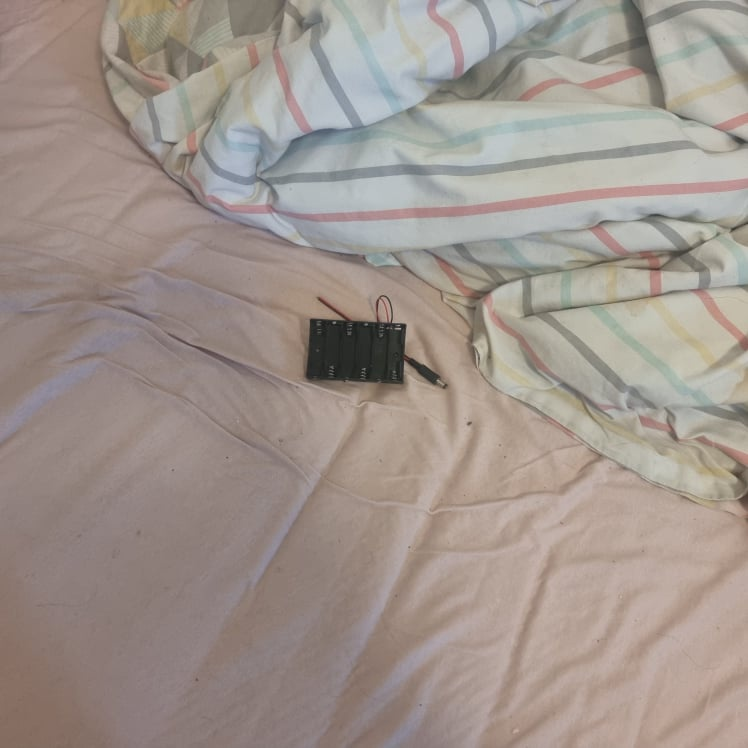BATTERY BOX: (303, 318, 408, 387)
